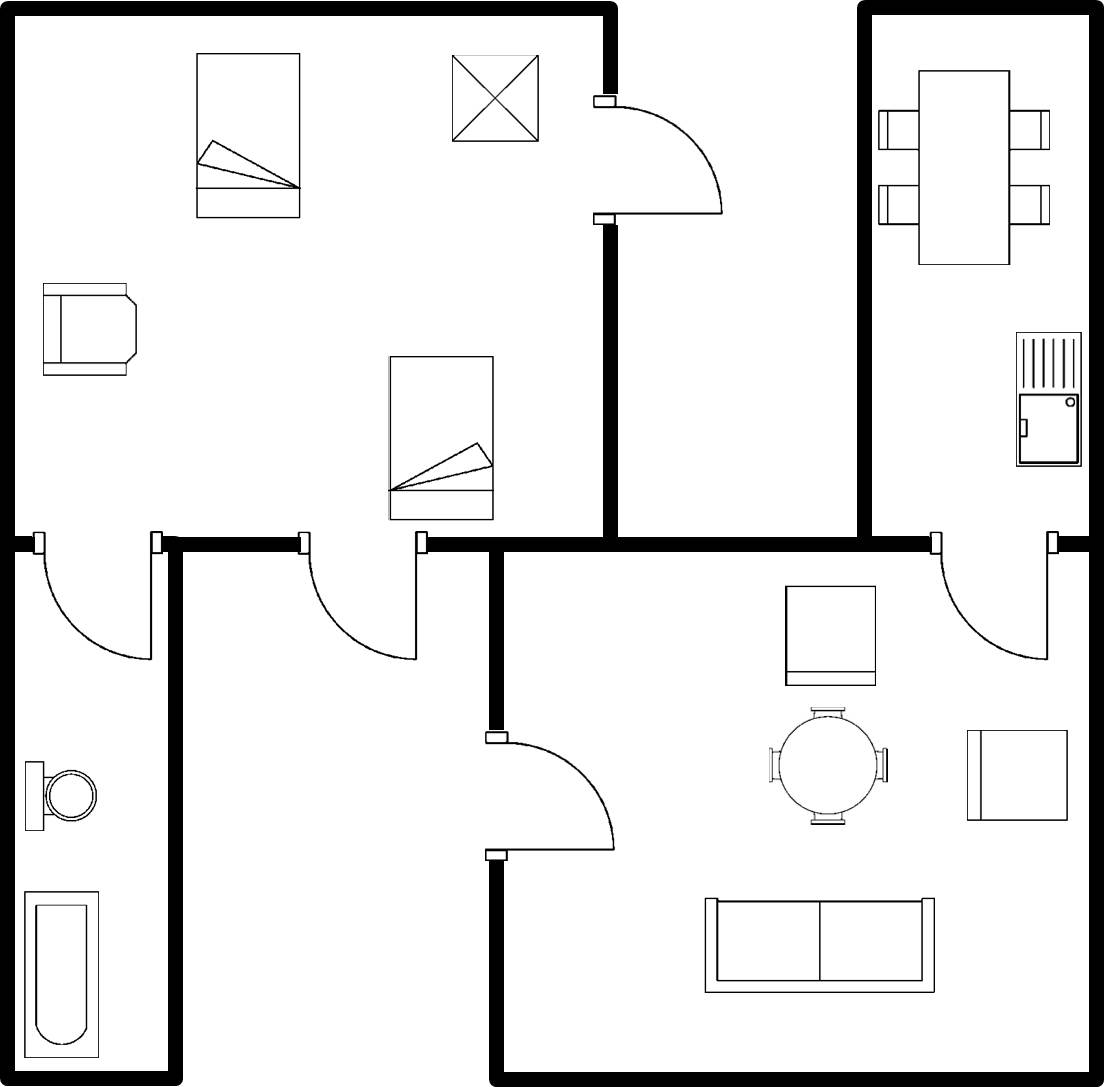armchair: (38, 274, 148, 387)
bed: (185, 46, 312, 227), (380, 348, 501, 528)
coffee_table: (444, 44, 547, 151)
dining_table: (874, 64, 1059, 274)
large_sofa: (694, 889, 945, 1004)
sink: (1006, 322, 1088, 476)
small_sofa: (773, 578, 885, 697), (959, 723, 1074, 829)
